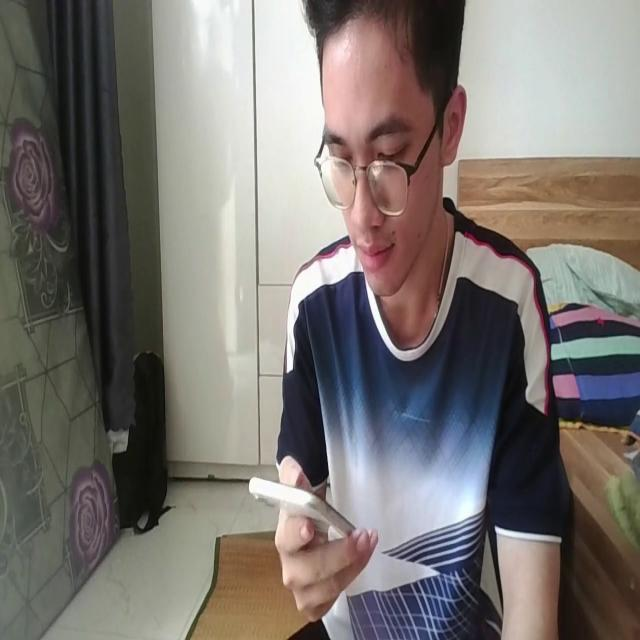phone: (241, 464, 356, 550)
student: (239, 0, 570, 640)
